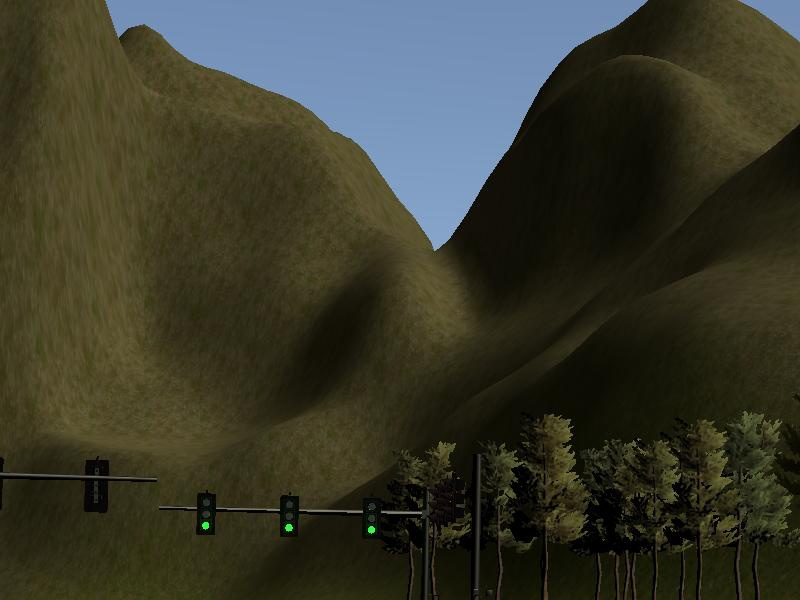Green: (280, 495, 298, 537)
